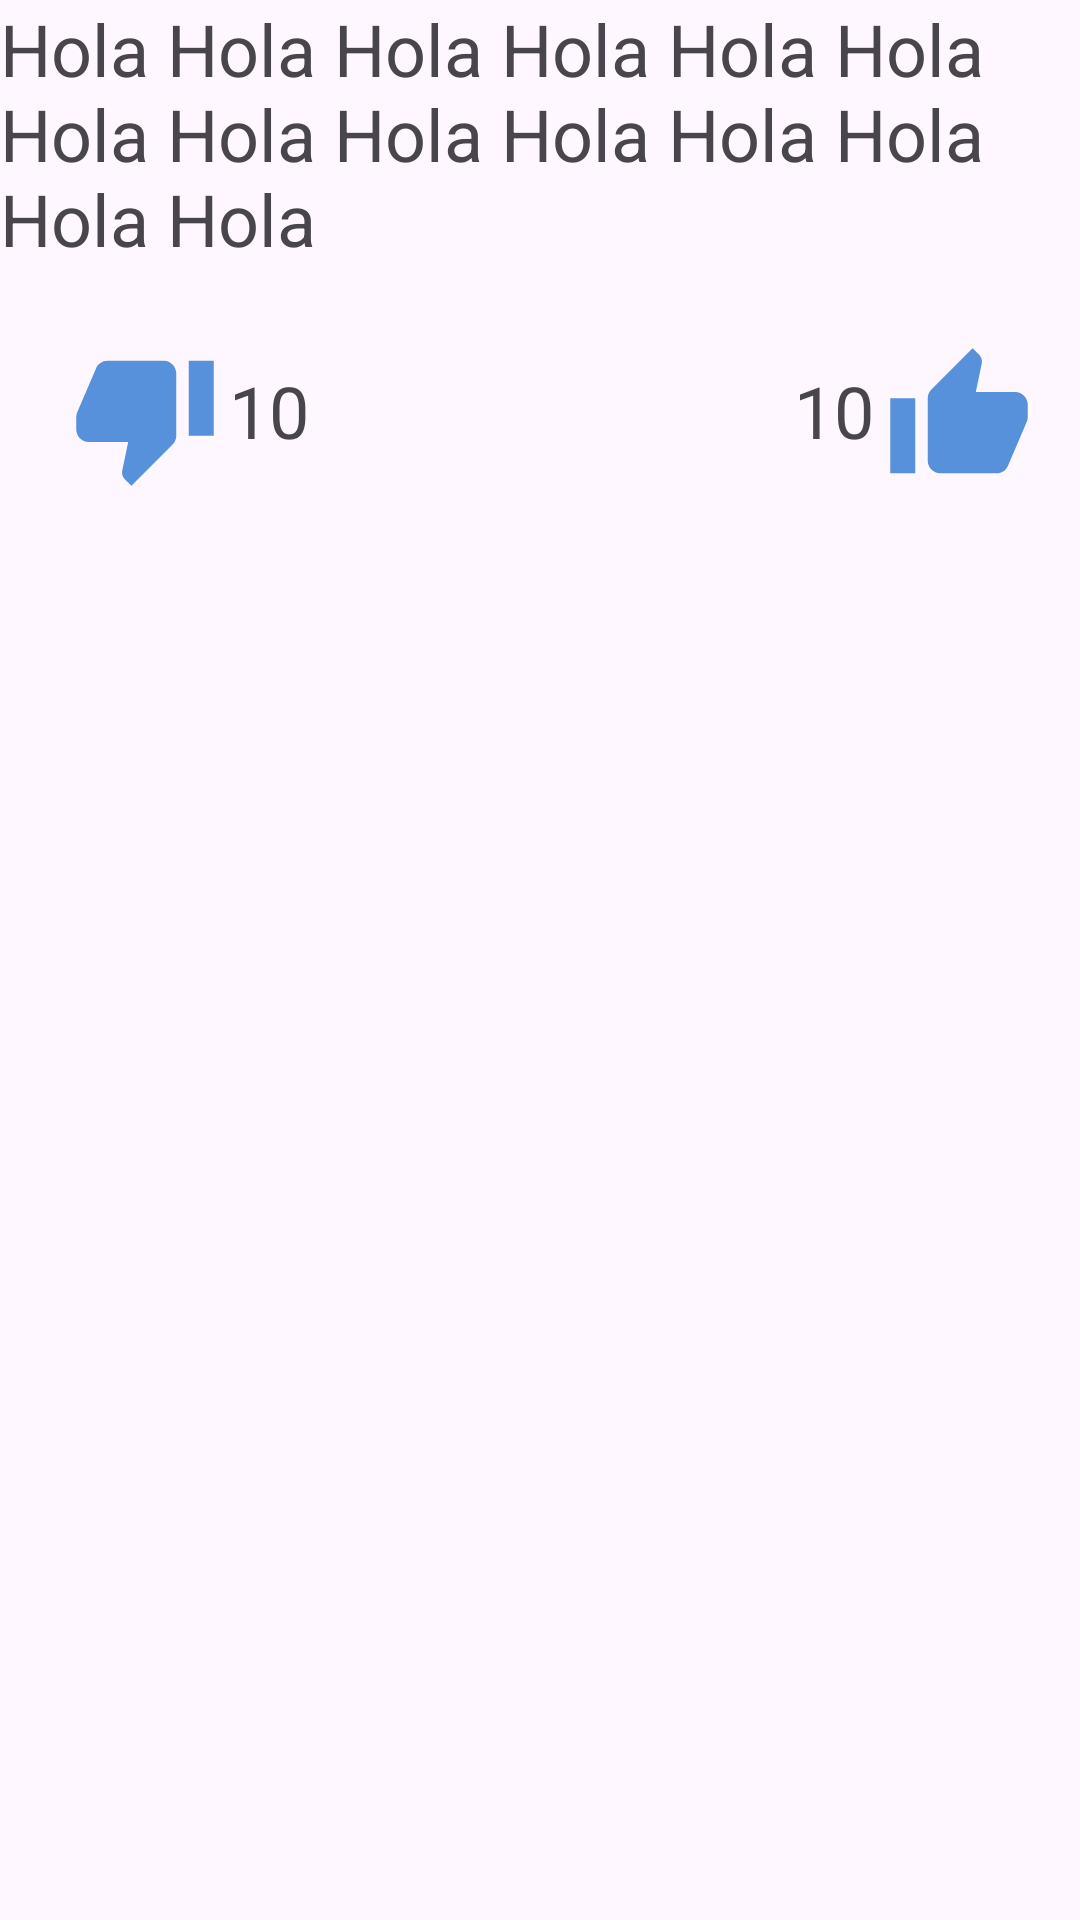

Icons on this 1080*1920 Android screen, each with the point to tap as [x,y]:
thumb down: [145,423]
thumb up: [959,411]
